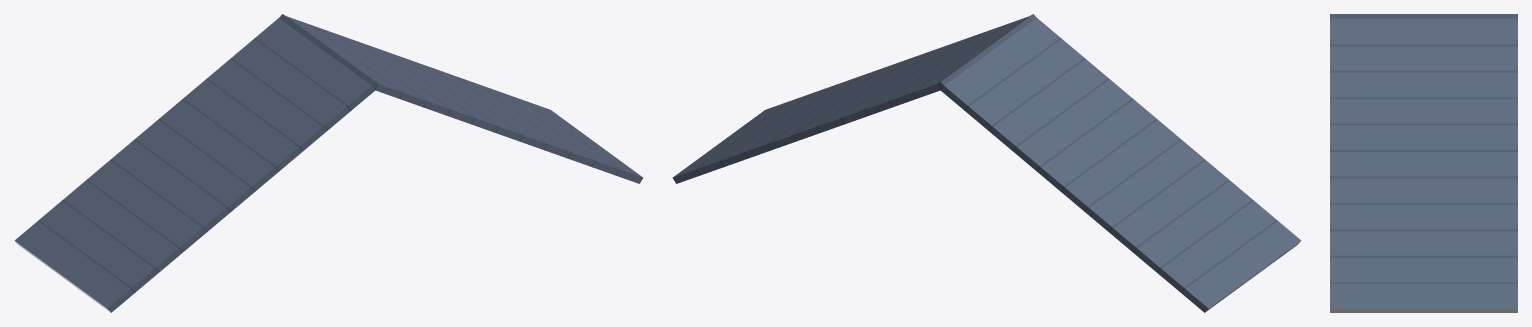
The model's file is Roof3_C4_01.fbx.
3 views of the same model, side by side, from view 1: azimuth 30°, elevation 25°; view 2: azimuth 150°, elevation 25°; view 3: azimuth 270°, elevation 25° (orthographic).
Parts seen in each view (by area): view 1: Roof3_C4_01; view 2: Roof3_C4_01; view 3: Roof3_C4_01.
Part boxes in pixels (x1=…): Roof3_C4_01: x1=14, y1=14, x2=643, y2=312; Roof3_C4_01: x1=672, y1=14, x2=1301, y2=312; Roof3_C4_01: x1=1330, y1=14, x2=1517, y2=312.
Size of the model in its own units: 833 by 247 by 250.
